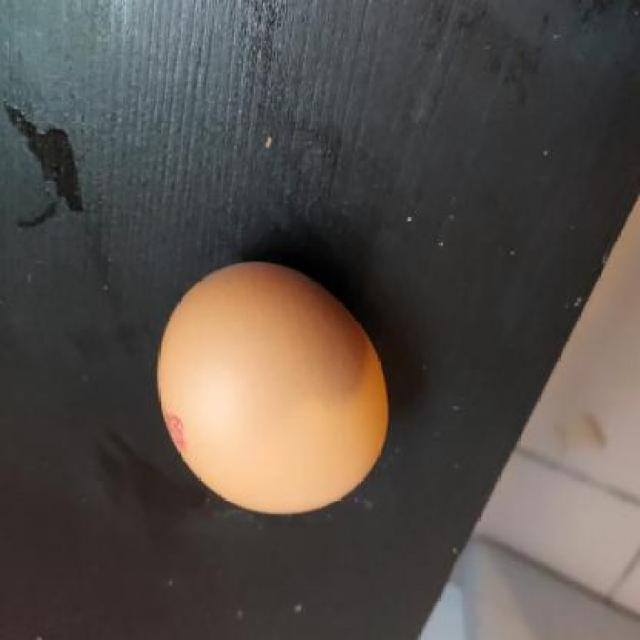biodegradable: (153, 256, 389, 518)
